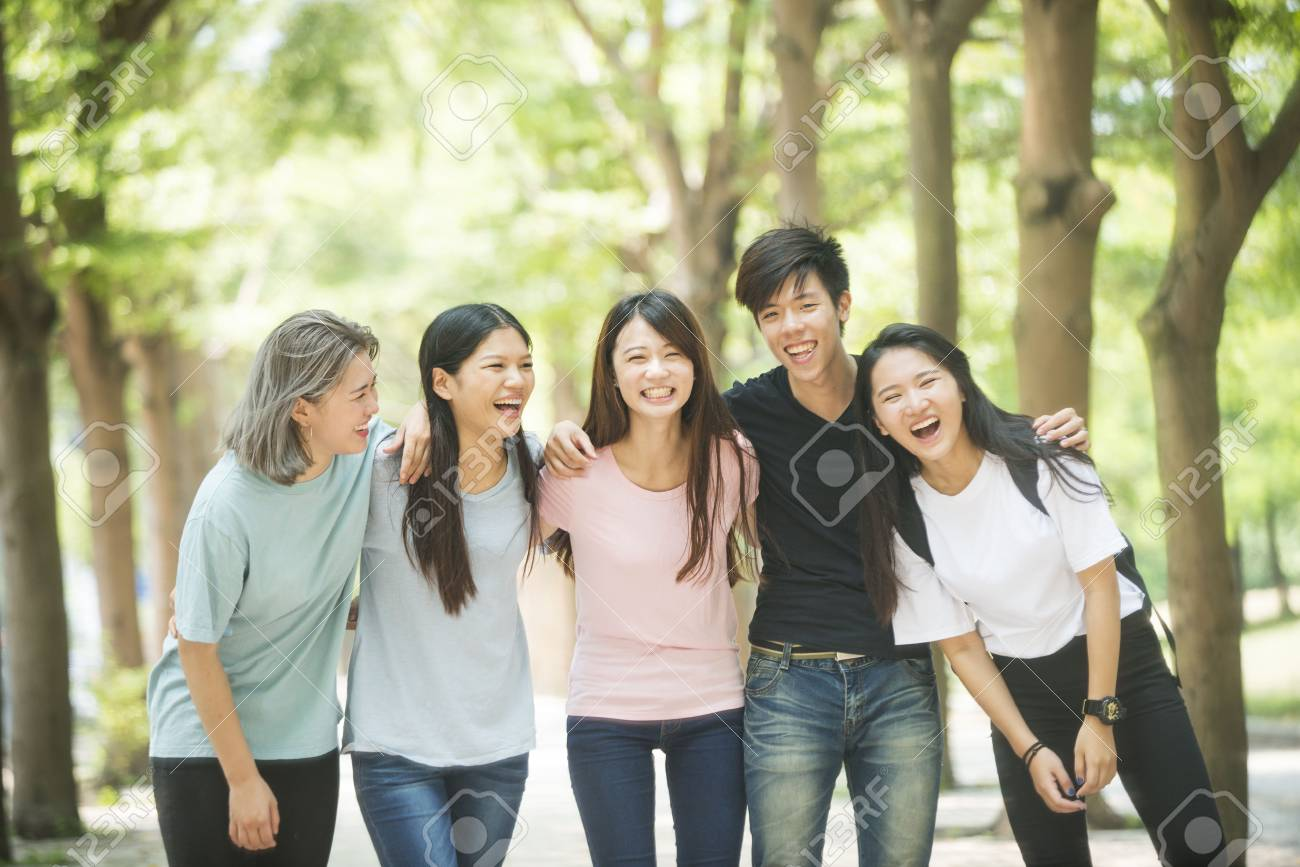bare: (756, 323, 845, 379), (879, 405, 971, 458), (464, 375, 533, 434), (618, 369, 695, 417), (317, 408, 385, 452)
